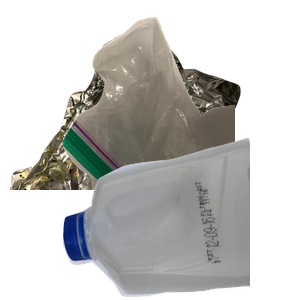glass: (86, 120, 277, 300)
metal: (10, 32, 250, 212)
plastic: (60, 135, 300, 300)
trash: (60, 14, 300, 194)
